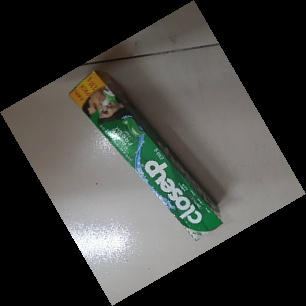CloseUp Xanh: (68, 70, 225, 242)
